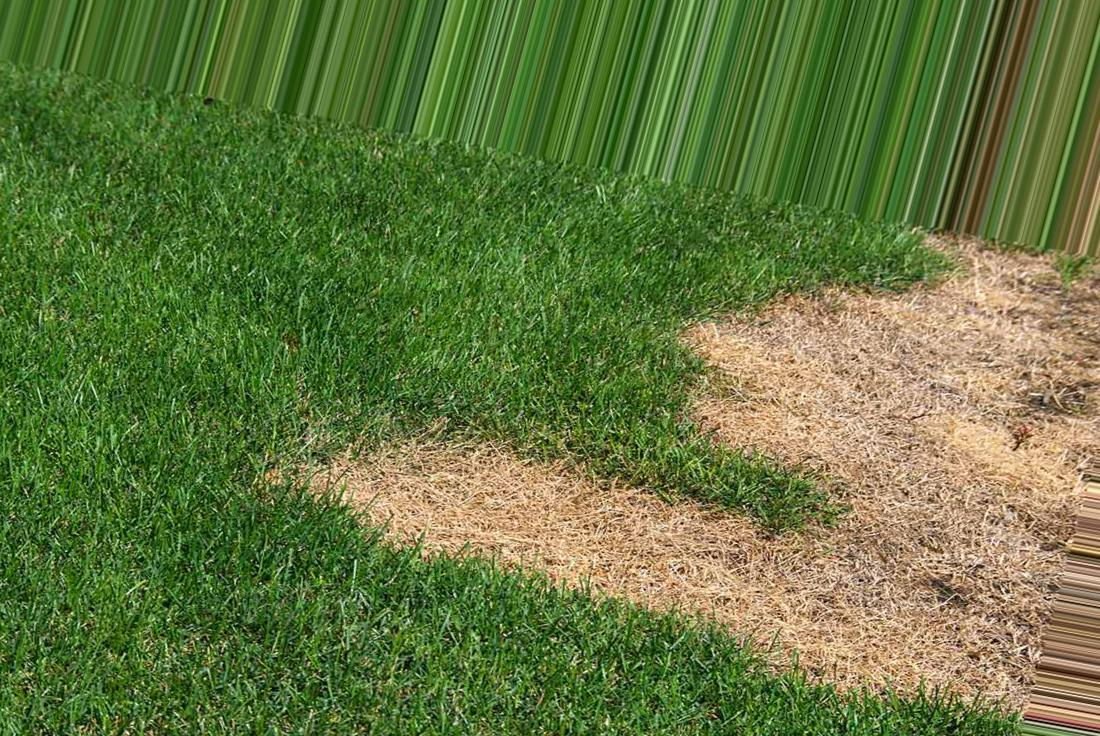patch: (868, 467, 1010, 647), (788, 335, 1049, 429), (395, 459, 538, 537), (713, 542, 827, 638), (582, 497, 675, 576)
